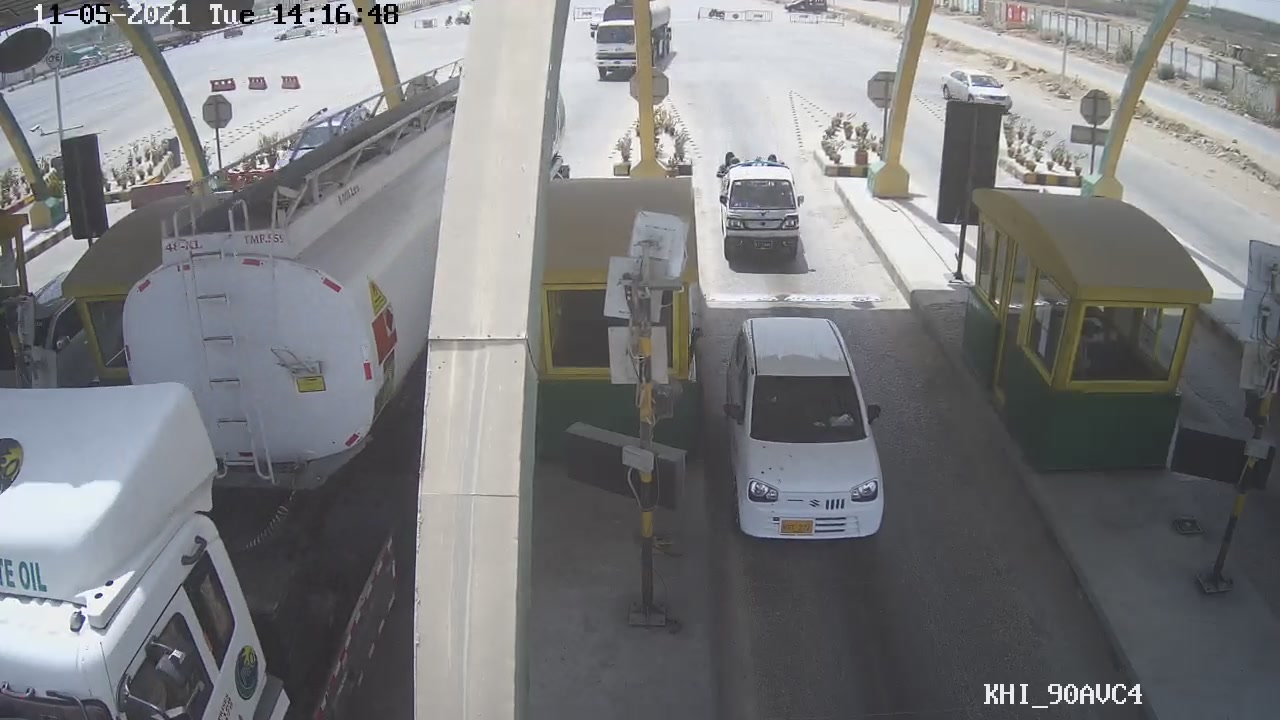F1: (726, 310, 882, 548), (711, 140, 812, 264)
